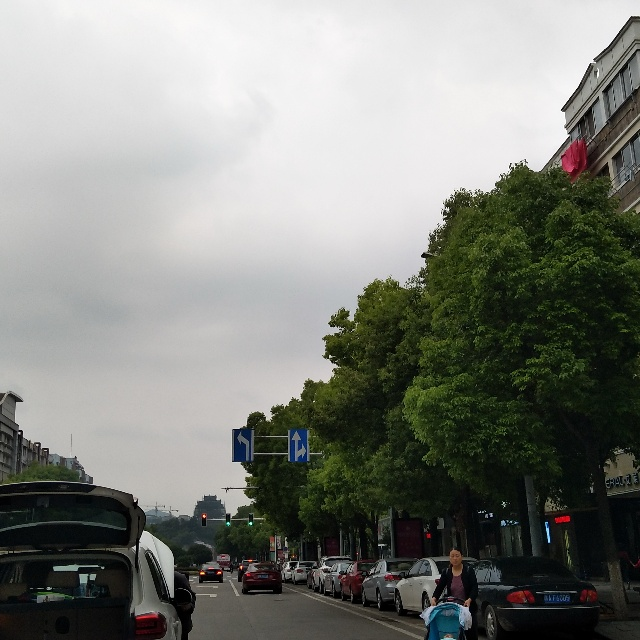left: (232, 429, 254, 462)
